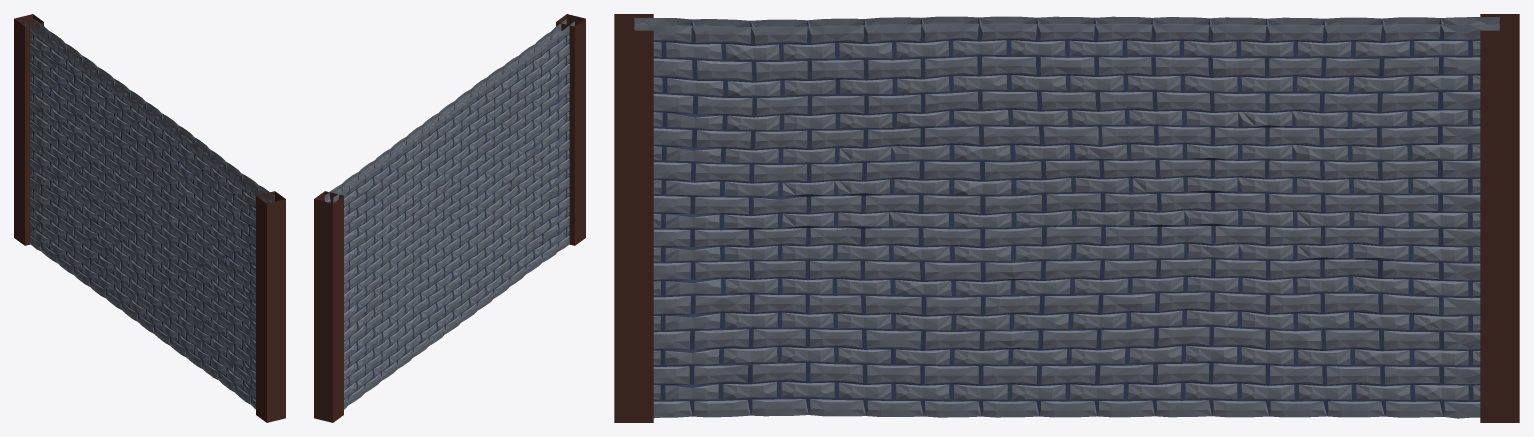
File: Wall_Final.fbx
3 views of the same model, side by side, from view 1: azimuth 30°, elevation 25°; view 2: azimuth 150°, elevation 25°; view 3: azimuth 270°, elevation 25° (orthographic). The views are drawn at different scales.
Visible parts, largest first — view 1: Wall_Final1; view 2: Wall_Final1; view 3: Wall_Final1.
Boxes of the visible parts, bbox=[...] form: Wall_Final1: bbox=[14, 14, 285, 422]; Wall_Final1: bbox=[314, 14, 585, 422]; Wall_Final1: bbox=[614, 14, 1519, 422].
Size of the model in its own units: 2 by 22.12 by 46.
